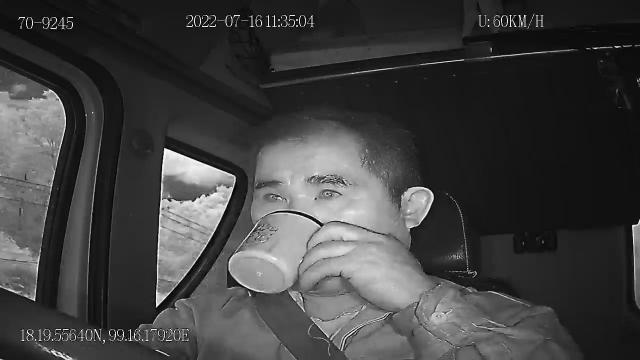SafeDriving: (308, 178, 352, 202), (256, 184, 292, 206)
Seatbelt: (250, 283, 352, 360)
